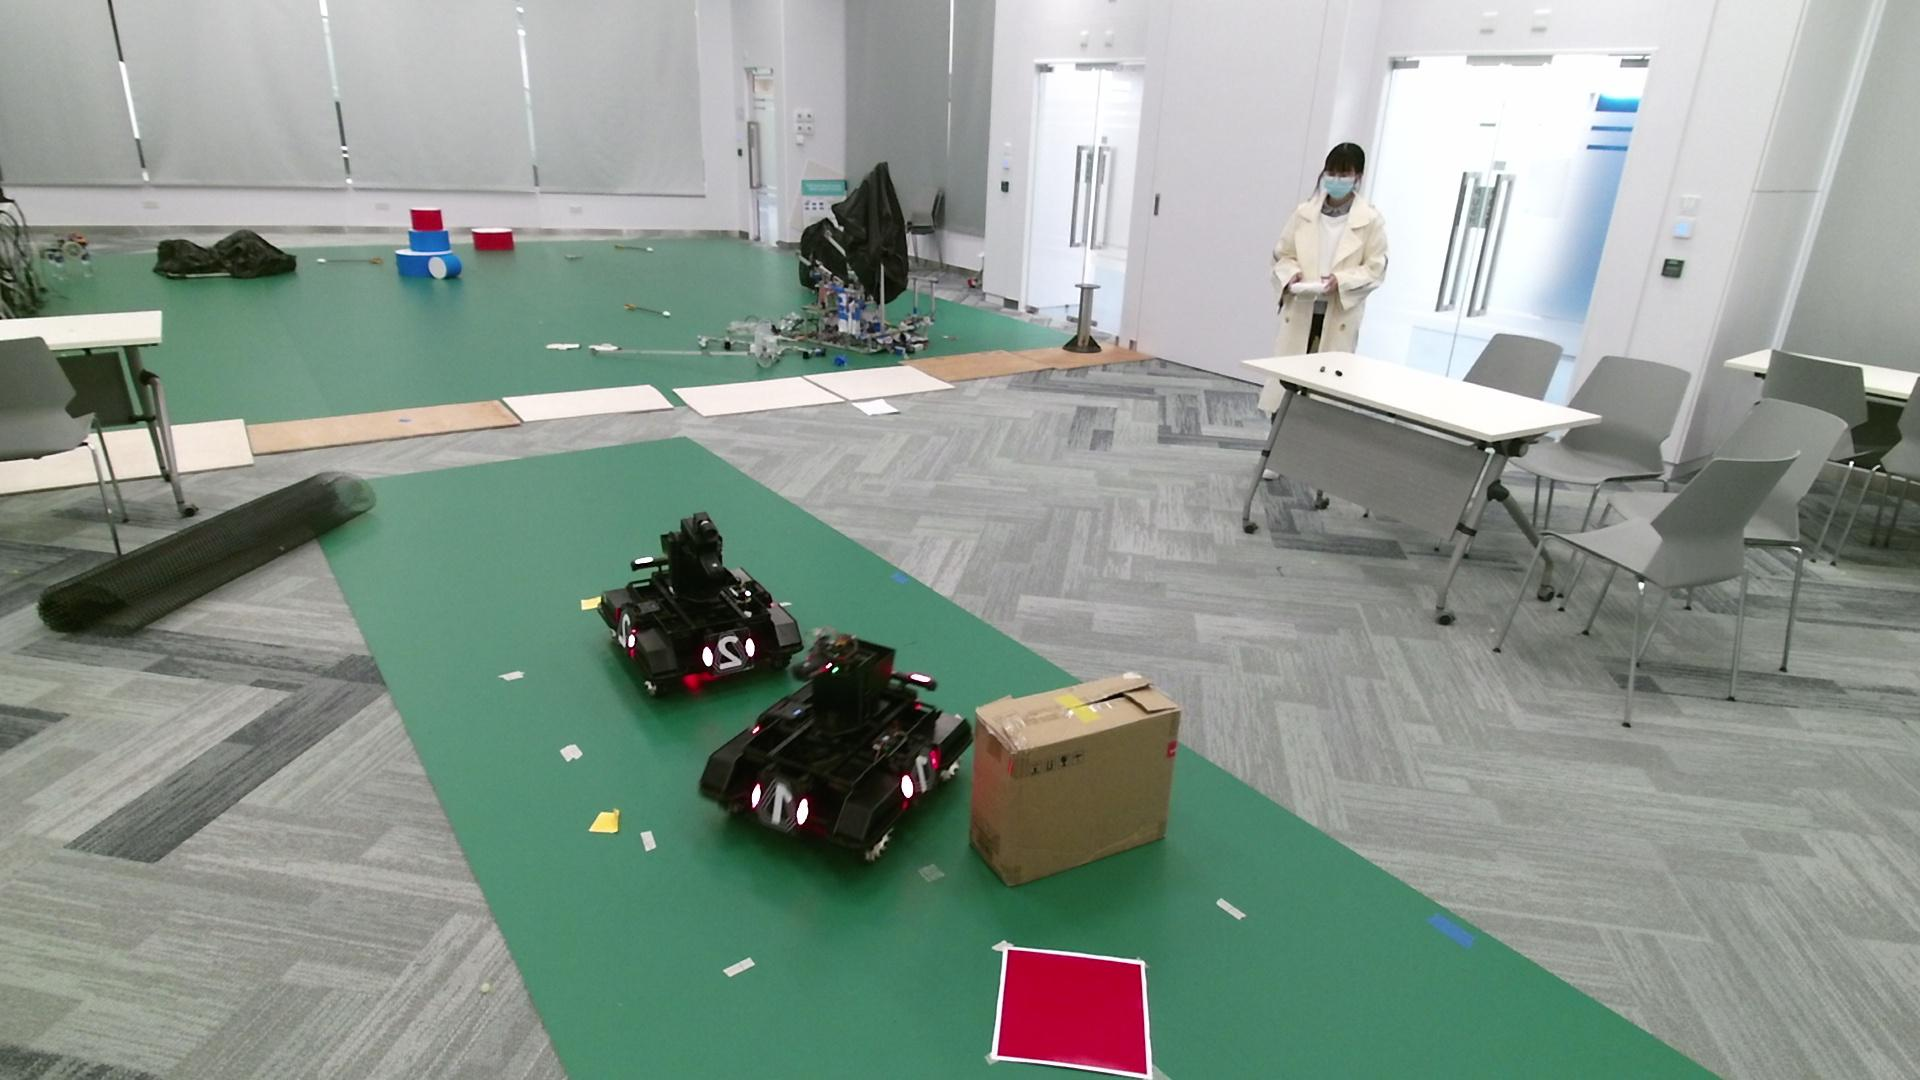robot: (698, 626, 976, 865), (597, 509, 803, 694)
